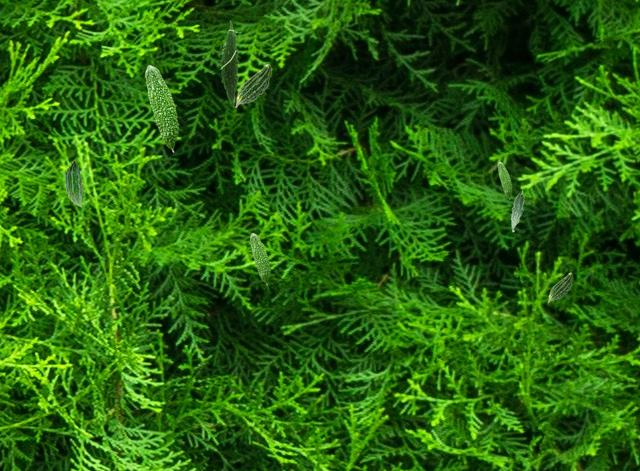ampalaya: (145, 64, 180, 153), (218, 19, 241, 107), (234, 63, 272, 108), (249, 232, 271, 285), (64, 158, 83, 207), (547, 272, 573, 303), (510, 190, 524, 232), (497, 161, 512, 200)
